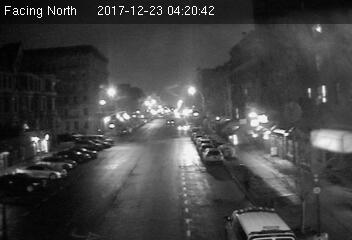car: (202, 147, 224, 161)
police: (223, 201, 298, 240)
